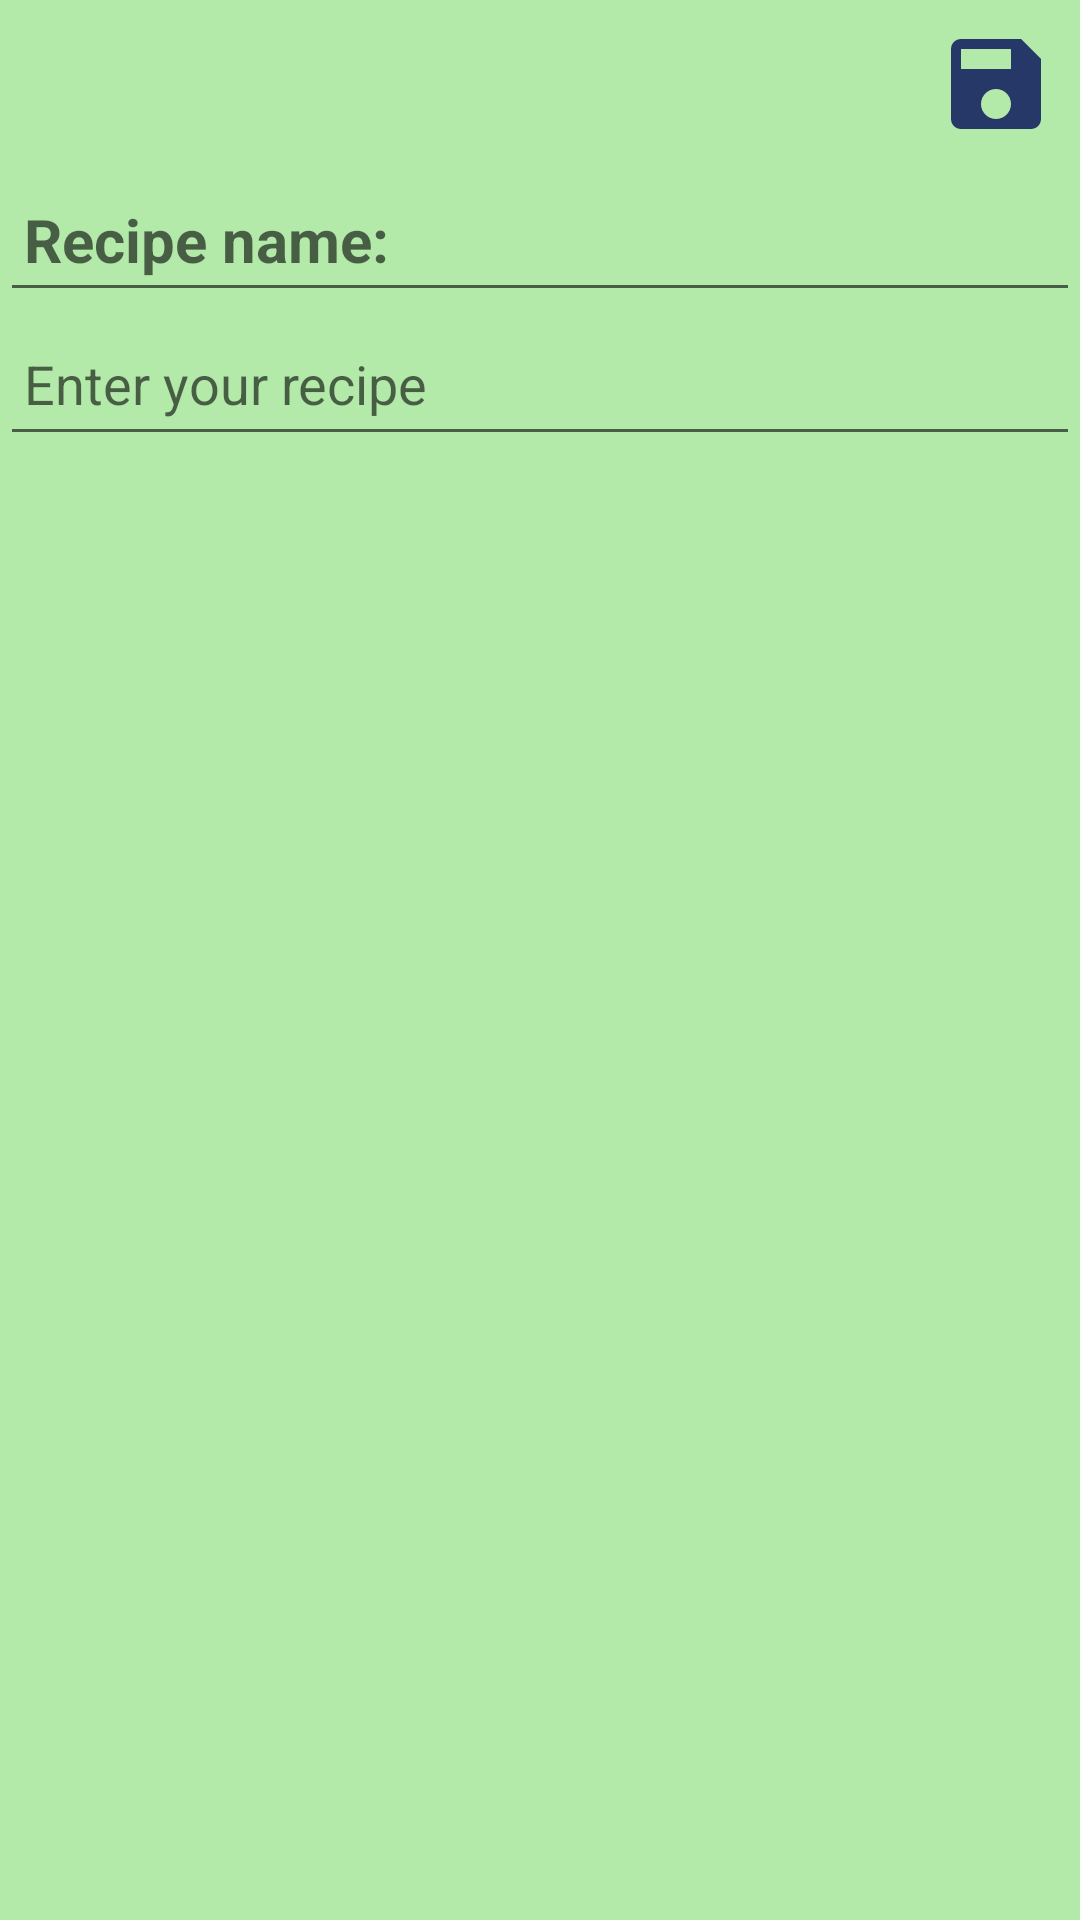

Screen size 1080px x 1920px. Icon name, then its center in pixels as (x,y):
save: (996,84)
